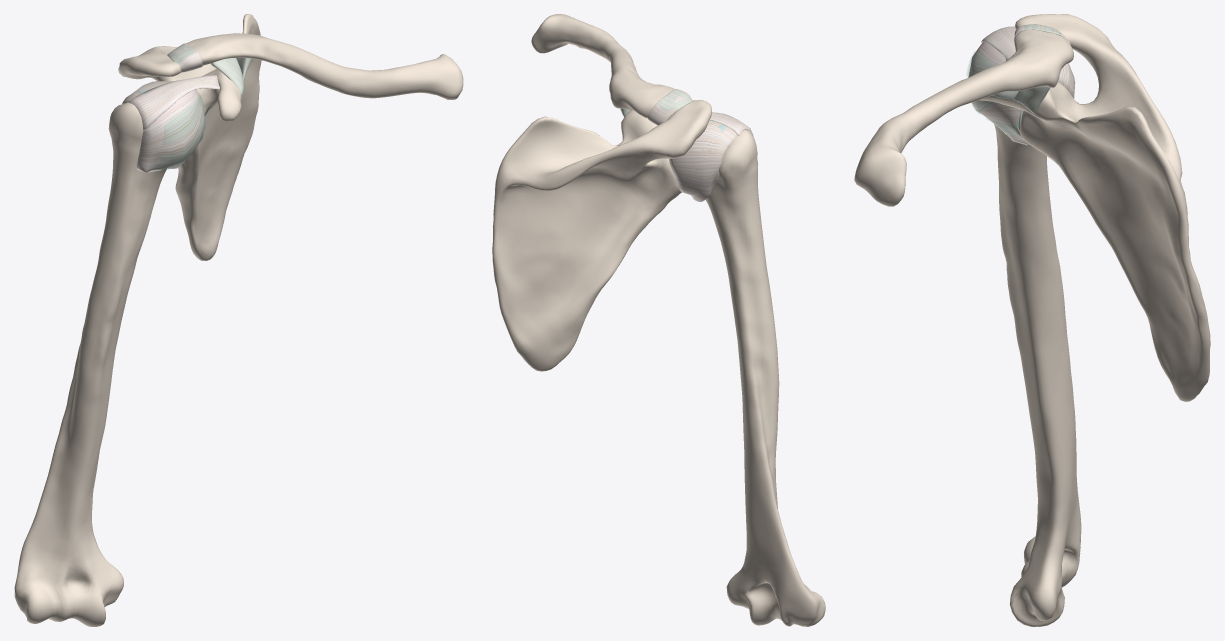
Rendered from shoulder-joint.glb.
3 renders of one model, left to right at view 1: azimuth 30°, elevation 25°; view 2: azimuth 150°, elevation 25°; view 3: azimuth 270°, elevation 25°, orthographic. The views are drawn at different scales.
Visible parts, largest first — view 1: Humerus.r, Scapula.r., Clavicle.r, Articular capsule of glenohumeral joint.r, Coracohumeral ligament.r, Coracoclavicular ligament.r, Acromioclavicular capsule.r; view 2: Scapula.r., Humerus.r, Clavicle.r, Articular capsule of glenohumeral joint.r, Acromioclavicular capsule.r; view 3: Scapula.r., Humerus.r, Clavicle.r, Articular capsule of glenohumeral joint.r, Coracoclavicular ligament.r, Coracohumeral ligament.r.
Part boxes in pixels (bbox=[...]): Humerus.r: bbox=[14, 102, 167, 626]; Scapula.r.: bbox=[118, 14, 261, 260]; Clavicle.r: bbox=[186, 33, 463, 99]; Articular capsule of glenohumeral joint.r: bbox=[122, 81, 205, 173]; Coracohumeral ligament.r: bbox=[127, 75, 219, 130]; Coracoclavicular ligament.r: bbox=[211, 58, 251, 94]; Acromioclavicular capsule.r: bbox=[167, 43, 202, 72]; Scapula.r.: bbox=[492, 100, 711, 371]; Humerus.r: bbox=[706, 130, 825, 626]; Clavicle.r: bbox=[531, 14, 674, 118]; Articular capsule of glenohumeral joint.r: bbox=[669, 120, 737, 201]; Acromioclavicular capsule.r: bbox=[648, 89, 692, 125]; Scapula.r.: bbox=[979, 14, 1210, 401]; Humerus.r: bbox=[994, 124, 1081, 626]; Clavicle.r: bbox=[854, 29, 1073, 206]; Articular capsule of glenohumeral joint.r: bbox=[968, 41, 1075, 145]; Coracoclavicular ligament.r: bbox=[992, 86, 1049, 114]; Coracohumeral ligament.r: bbox=[981, 26, 1015, 60].
Size of the model in its own units: 0.2377 by 0.3353 by 0.1646.
Materials: 9 (2 with a texture image).
